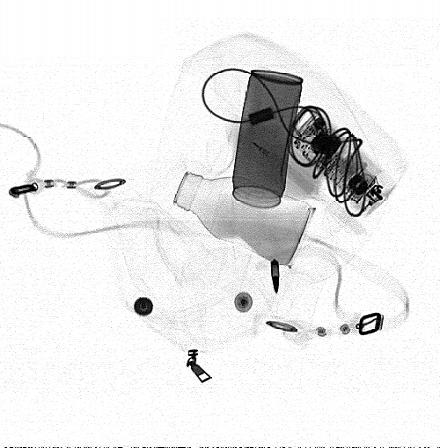Bullet: (270, 259, 280, 294)
